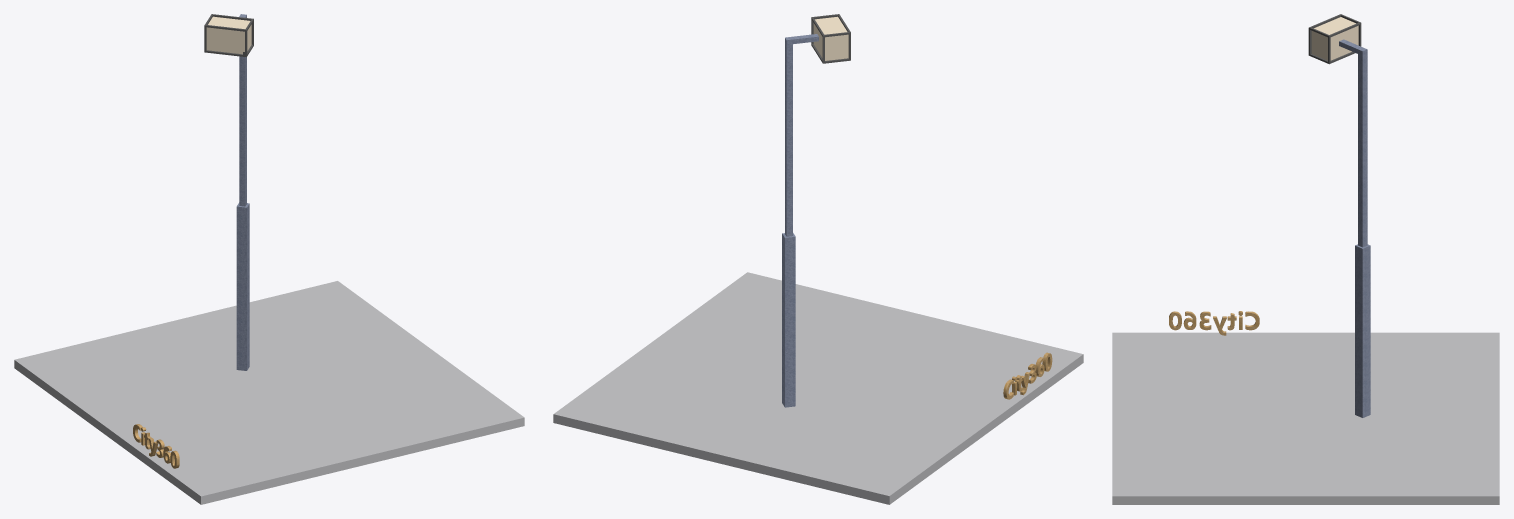
The model's file is street+lamps.obj.
3 views of the same model, side by side, from view 1: azimuth 30°, elevation 25°; view 2: azimuth 150°, elevation 25°; view 3: azimuth 270°, elevation 25° (orthographic). The views are drawn at different scales.
Parts seen in each view (by area): view 1: Mesh9 Group2 Model, Mesh11 Lamp2_1 Model, Mesh10 Group3 Lamp2_1 Model; view 2: Mesh9 Group2 Model, Mesh11 Lamp2_1 Model, Mesh10 Group3 Lamp2_1 Model; view 3: Mesh9 Group2 Model, Mesh11 Lamp2_1 Model, Mesh10 Group3 Lamp2_1 Model.
Part boxes in pixels (x1,y1,x2,y2): Mesh9 Group2 Model: (14, 281, 524, 504); Mesh11 Lamp2_1 Model: (236, 14, 249, 370); Mesh10 Group3 Lamp2_1 Model: (204, 14, 253, 57); Mesh9 Group2 Model: (553, 272, 1083, 504); Mesh11 Lamp2_1 Model: (782, 34, 818, 407); Mesh10 Group3 Lamp2_1 Model: (811, 14, 850, 63); Mesh9 Group2 Model: (1112, 332, 1499, 504); Mesh11 Lamp2_1 Model: (1339, 39, 1370, 417); Mesh10 Group3 Lamp2_1 Model: (1308, 14, 1361, 64).
Size of the model in its own units: 400 by 438 by 400.
6 materials, 2 textured.
